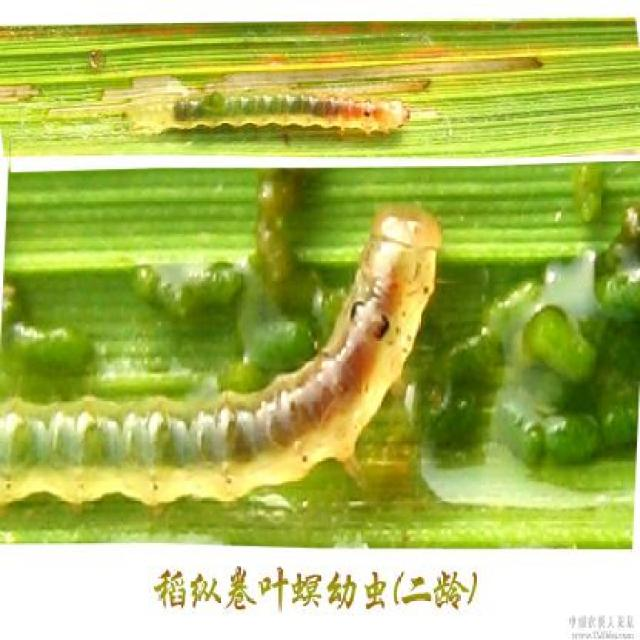leaf-folder: (0, 195, 445, 520), (118, 70, 420, 158)
